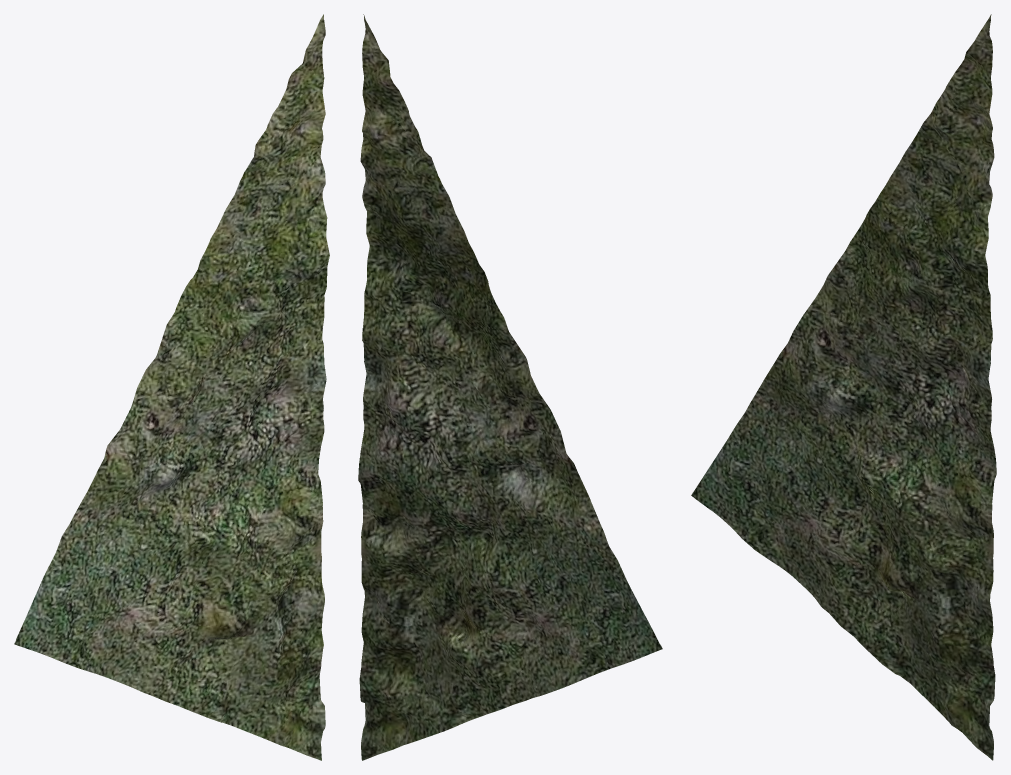
File: Tile_19.fbx
3 renders of one model, left to right at view 1: azimuth 30°, elevation 25°; view 2: azimuth 150°, elevation 25°; view 3: azimuth 330°, elevation 25°, orthographic.
Visible parts, largest first — view 1: DefaultName; view 2: DefaultName; view 3: DefaultName.
Part boxes in pixels (left/top/right/bottom): DefaultName: left=14, top=14, right=329, bottom=760; DefaultName: left=358, top=14, right=662, bottom=760; DefaultName: left=691, top=14, right=996, bottom=760.
Size of the model in its own units: 2.56 by 5.99 by 0.2299.
1 material, 1 textured.
